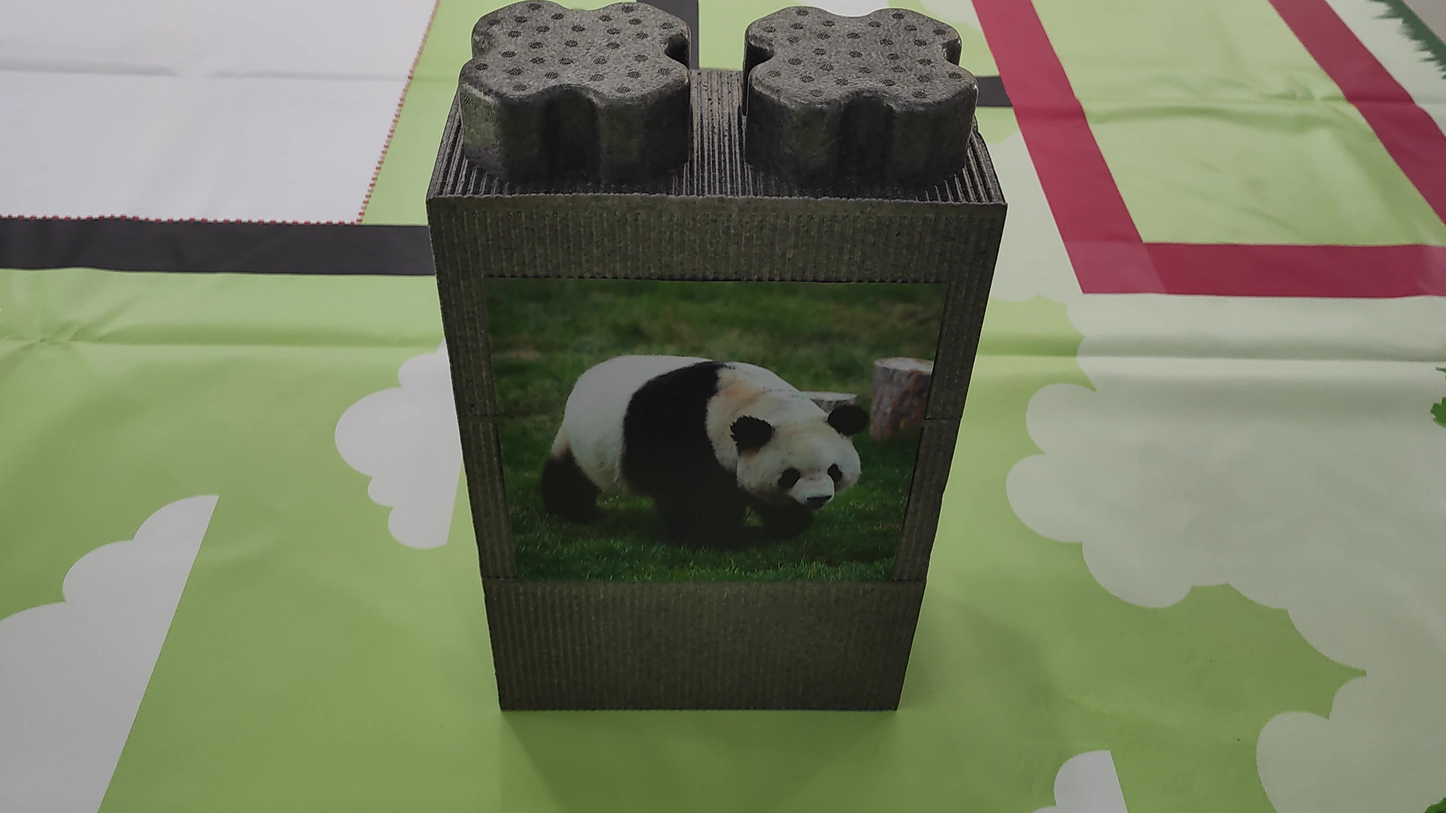panda: (527, 309, 900, 564)
